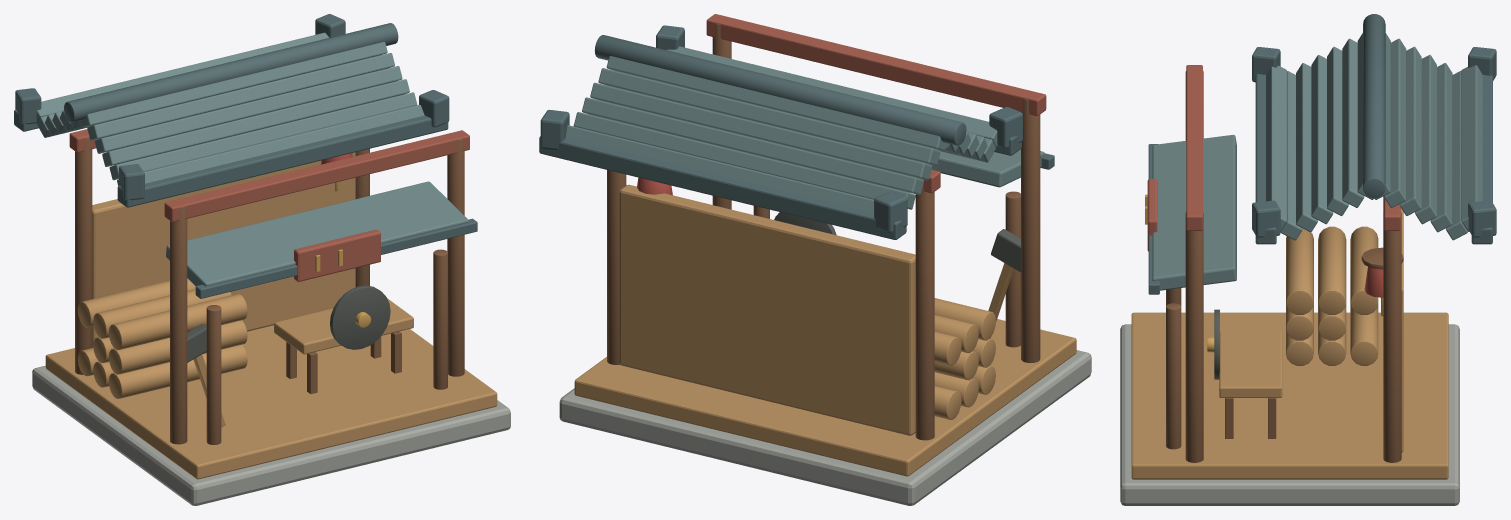
Rendered from building_lumber_open.glb.
The picture shows the model from 3 angles, left to right: view 1: azimuth 30°, elevation 25°; view 2: azimuth 150°, elevation 25°; view 3: azimuth 270°, elevation 25°; orthographic projection. The views are drawn at different scales.
Parts seen in each view (by area): view 1: RaisedFloor.002, LumberBackWall, Foundation.002, VerandaCanopy.002, TopBeam.004, EaveBeam.004, RoofRidge.002, TimberPost.008, TimberPost.010, TimberPost.009, LogStack.005, SawBlade (+15 smaller); view 2: LumberBackWall, RaisedFloor.002, Foundation.002, TopBeam.004, EaveBeam.005, RoofRidge.002, TimberPost.008, TimberPost.009, TimberPost.011, VerandaCanopy.002, VerandaPost.004, LogStack.005 (+12 smaller); view 3: RaisedFloor.002, Foundation.002, VerandaCanopy.002, TimberPost.010, TimberPost.011, WorkTableTop.001, RoofRidge.002, TopBeam.004, LogStack.006, VerandaPost.005, LogStack.005, LogStack.007 (+18 smaller).
Part boxes in pixels (bbox=[...]): RaisedFloor.002: bbox=[45, 325, 497, 479]; LumberBackWall: bbox=[92, 152, 355, 347]; Foundation.002: bbox=[32, 365, 510, 505]; VerandaCanopy.002: bbox=[166, 181, 468, 286]; TopBeam.004: bbox=[164, 130, 469, 222]; EaveBeam.004: bbox=[117, 115, 448, 207]; RoofRidge.002: bbox=[64, 23, 398, 122]; TimberPost.008: bbox=[170, 206, 187, 444]; TimberPost.010: bbox=[447, 139, 464, 376]; TimberPost.009: bbox=[75, 137, 92, 374]; LogStack.005: bbox=[108, 294, 247, 350]; SawBlade: bbox=[330, 285, 390, 349]; LumberBackWall: bbox=[619, 184, 915, 435]; RaisedFloor.002: bbox=[574, 319, 1076, 476]; Foundation.002: bbox=[559, 350, 1091, 505]; TopBeam.004: bbox=[706, 14, 1046, 115]; EaveBeam.005: bbox=[539, 136, 906, 239]; RoofRidge.002: bbox=[594, 35, 966, 145]; TimberPost.008: bbox=[1021, 99, 1040, 362]; TimberPost.009: bbox=[915, 178, 934, 440]; TimberPost.011: bbox=[607, 170, 626, 364]; VerandaCanopy.002: bbox=[928, 149, 1044, 187]; VerandaPost.004: bbox=[1005, 191, 1020, 347]; LogStack.005: bbox=[934, 298, 995, 340]; RaisedFloor.002: bbox=[1131, 312, 1448, 479]; Foundation.002: bbox=[1120, 324, 1459, 505]; VerandaCanopy.002: bbox=[1152, 134, 1236, 290]; TimberPost.010: bbox=[1185, 212, 1203, 462]; TimberPost.011: bbox=[1383, 212, 1401, 462]; WorkTableTop.001: bbox=[1219, 331, 1282, 397]; RoofRidge.002: bbox=[1363, 14, 1385, 198]; TopBeam.004: bbox=[1186, 65, 1202, 230]; LogStack.006: bbox=[1318, 226, 1346, 314]; VerandaPost.005: bbox=[1166, 303, 1181, 449]; LogStack.005: bbox=[1286, 228, 1313, 314]; LogStack.007: bbox=[1350, 226, 1378, 314].
Size of the model in its own units: 2.78 by 2.6 by 2.68.
